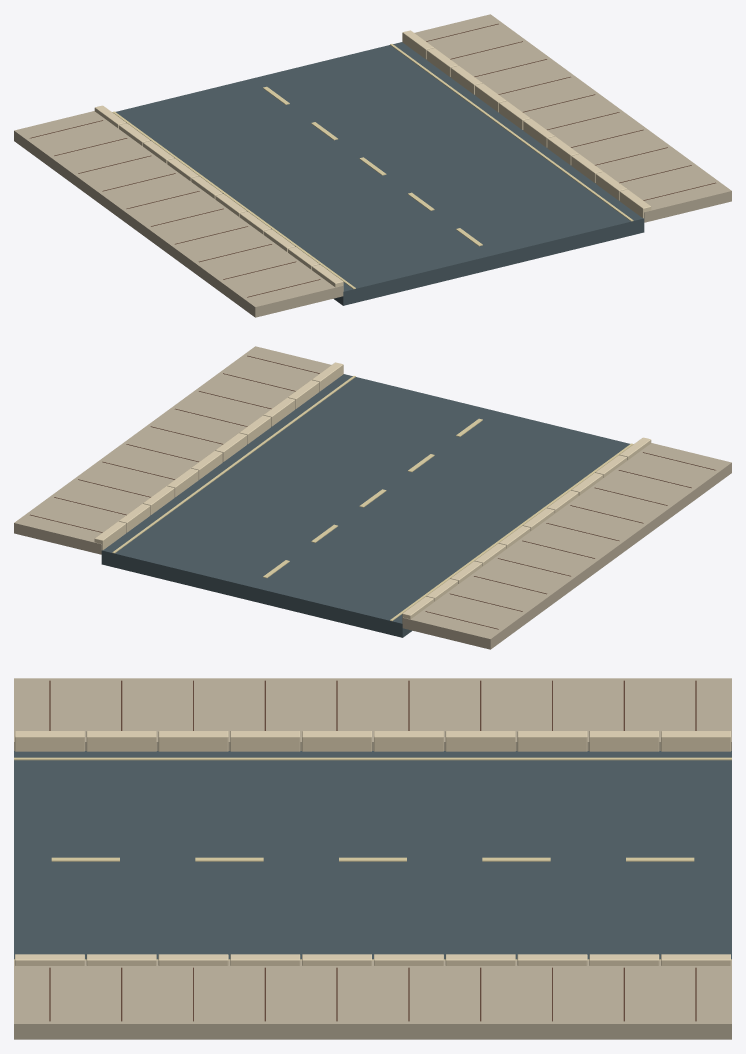
The model's file is road_straight.glb.
3 renders of one model, top to bottom at view 1: azimuth 30°, elevation 25°; view 2: azimuth 150°, elevation 25°; view 3: azimuth 270°, elevation 25°, orthographic. The views are drawn at different scales.
Visible parts, largest first — view 1: Road slab, Sidewalk, Sidewalk.001, Road edge line.001, Road edge line; view 2: Road slab, Sidewalk, Sidewalk.001, Road edge line.001, Road edge line; view 3: Road slab, Sidewalk.001, Sidewalk, Road edge line, Curb block.001, Curb block.002, Curb block.003, Curb block.006, Curb block.007, Curb block.008, Curb block, Curb block.004 (+12 smaller).
Part boxes in pixels (x1,y1,x2,y2): Road slab: [116, 42, 644, 305]; Sidewalk: [14, 111, 343, 317]; Sidewalk.001: [414, 14, 731, 222]; Road edge line.001: [390, 44, 633, 221]; Road edge line: [112, 111, 355, 289]; Road slab: [101, 374, 629, 637]; Sidewalk: [402, 443, 731, 649]; Sidewalk.001: [14, 346, 331, 554]; Road edge line.001: [112, 376, 355, 553]; Road edge line: [390, 443, 633, 621]; Road slab: [14, 751, 731, 959]; Sidewalk.001: [14, 960, 731, 1039]; Sidewalk: [14, 678, 731, 750]; Road edge line: [14, 757, 731, 760]; Curb block.001: [86, 731, 156, 751]; Curb block.002: [158, 731, 228, 751]; Curb block.003: [230, 731, 300, 751]; Curb block.006: [445, 731, 515, 751]; Curb block.007: [517, 731, 587, 751]; Curb block.008: [589, 731, 659, 751]; Curb block: [15, 731, 84, 751]; Curb block.004: [302, 731, 371, 751].
Size of the model in its own units: 11.4 by 0.55 by 10.
